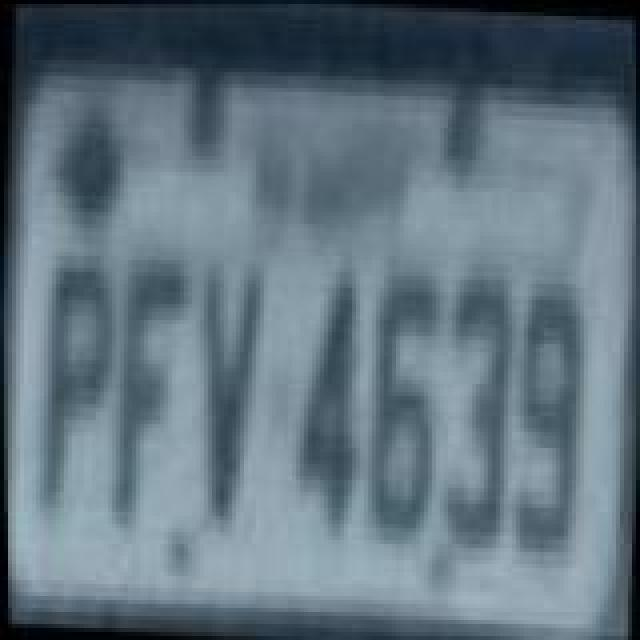3: (432, 278, 520, 554)
4: (288, 260, 376, 544)
6: (360, 276, 448, 540)
9: (504, 280, 592, 568)
F: (104, 258, 200, 530)
P: (32, 260, 120, 516)
V: (186, 266, 270, 518)
